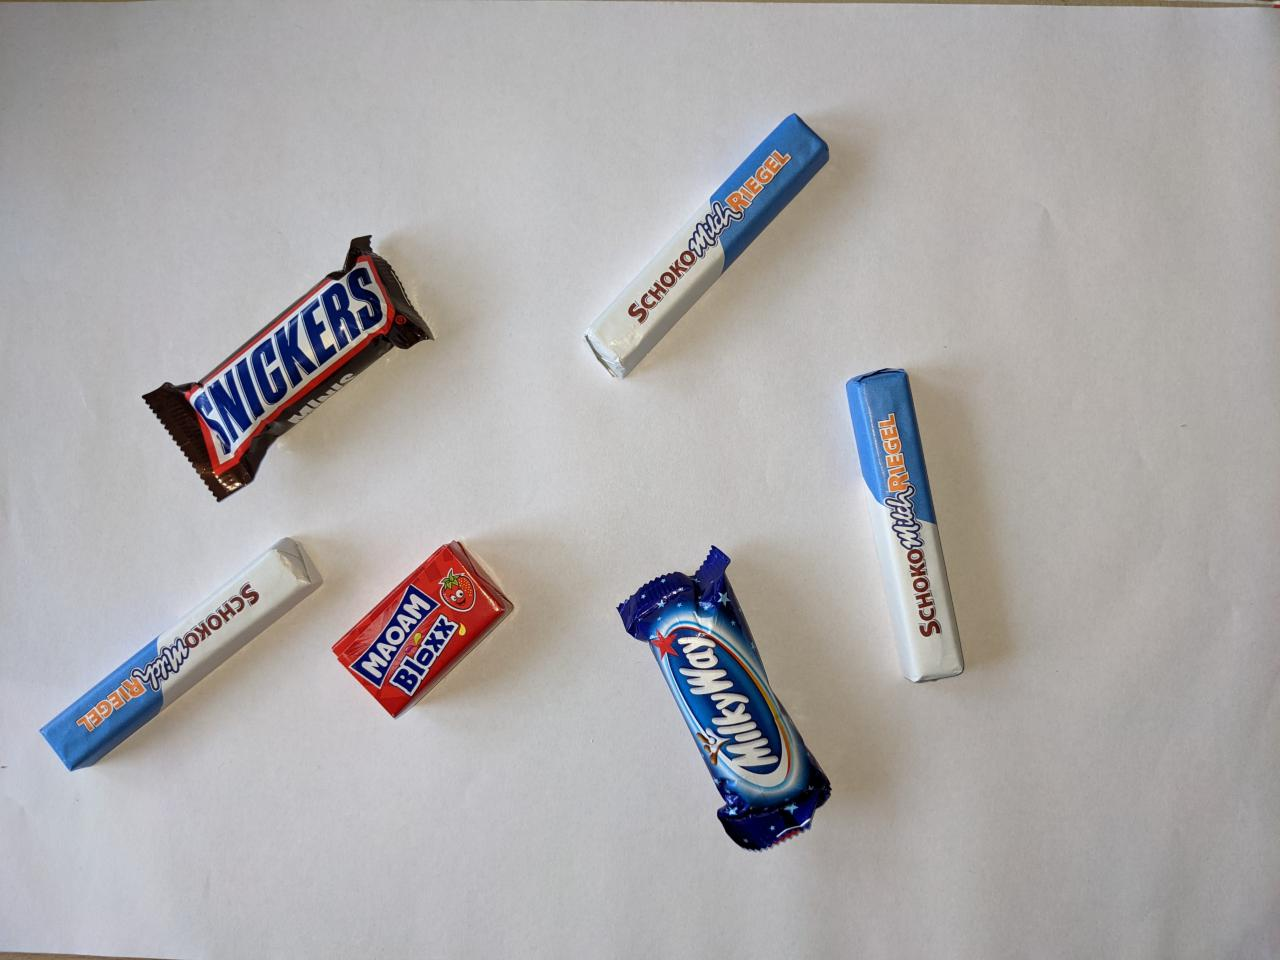MAOAM: (324, 531, 522, 727)
MilkyWay: (611, 538, 840, 860)
Schokoriegel: (570, 104, 839, 387), (30, 527, 330, 776), (839, 360, 976, 692)
Snickers: (131, 223, 443, 510)
